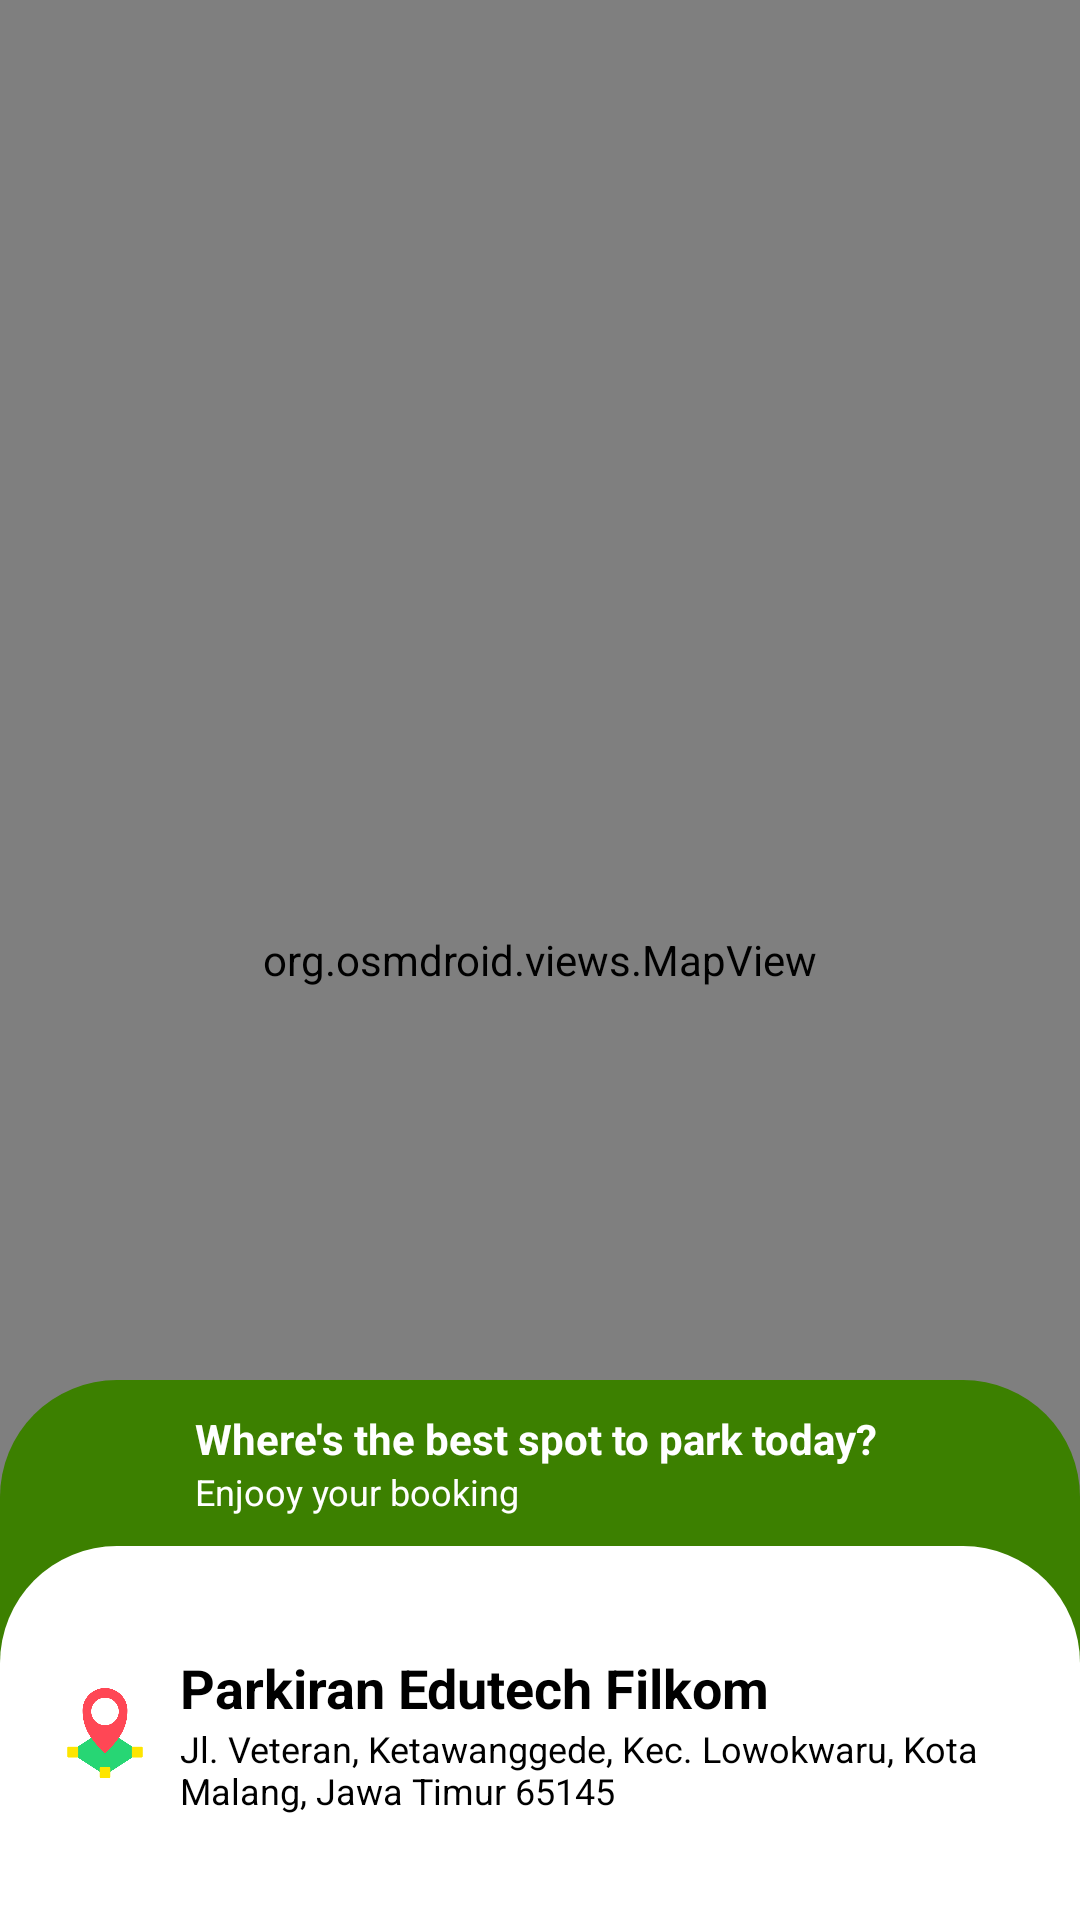

Screen size 1080×1920. Icon name, then its box in pixels as bbox=(x1, y1, x2, y2):
location: bbox=(67, 1688, 143, 1778)
